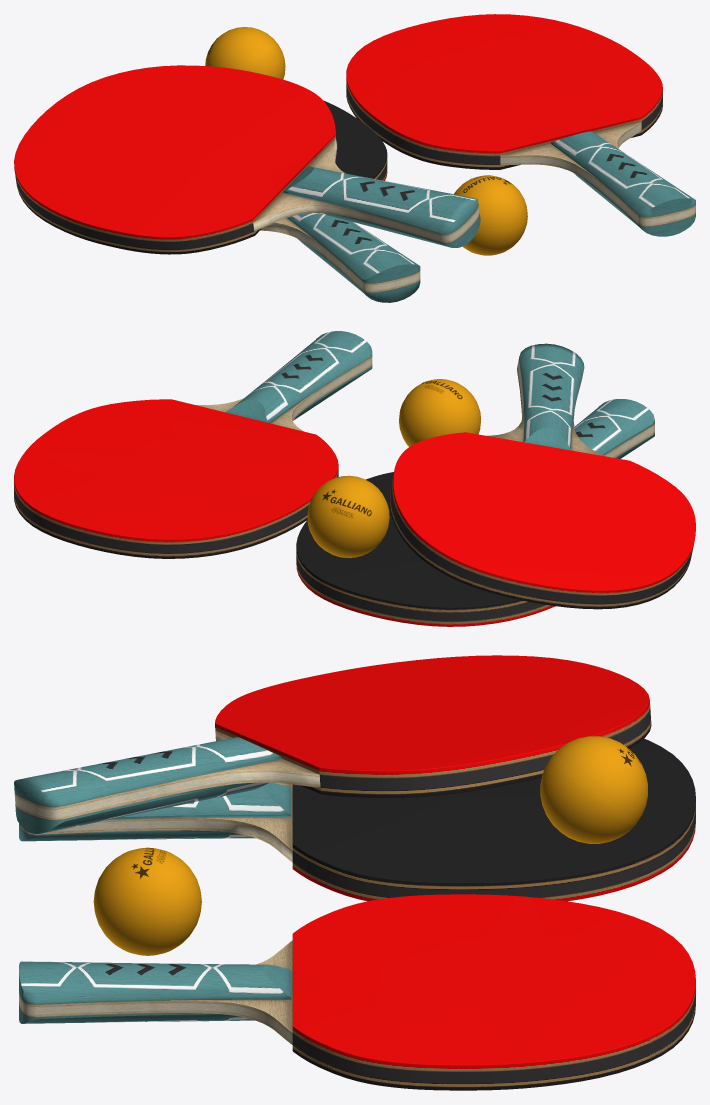
File: SM_PingPongPaddle.fbx
The picture shows the model from 3 angles, top to bottom: view 1: azimuth 30°, elevation 25°; view 2: azimuth 150°, elevation 25°; view 3: azimuth 270°, elevation 25°; orthographic projection. The views are drawn at different scales.
Parts seen in each view (by area): view 1: SM_PingPongPaddle_Show, SM_PingPongPaddle, SM_PingPongBall; view 2: SM_PingPongPaddle_Show, SM_PingPongPaddle, SM_PingPongBall; view 3: SM_PingPongPaddle_Show, SM_PingPongPaddle, SM_PingPongBall.
Part boxes in pixels (<box>): SM_PingPongPaddle_Show: <box>14,27,480,302</box>; SM_PingPongPaddle: <box>346,14,695,236</box>; SM_PingPongBall: <box>454,175,527,255</box>; SM_PingPongPaddle_Show: <box>296,343,695,626</box>; SM_PingPongPaddle: <box>14,331,372,558</box>; SM_PingPongBall: <box>399,379,480,446</box>; SM_PingPongPaddle_Show: <box>14,655,695,901</box>; SM_PingPongPaddle: <box>19,894,695,1090</box>; SM_PingPongBall: <box>93,847,201,955</box>.
Size of the model in its own units: 34.81 by 6.51 by 25.19.
